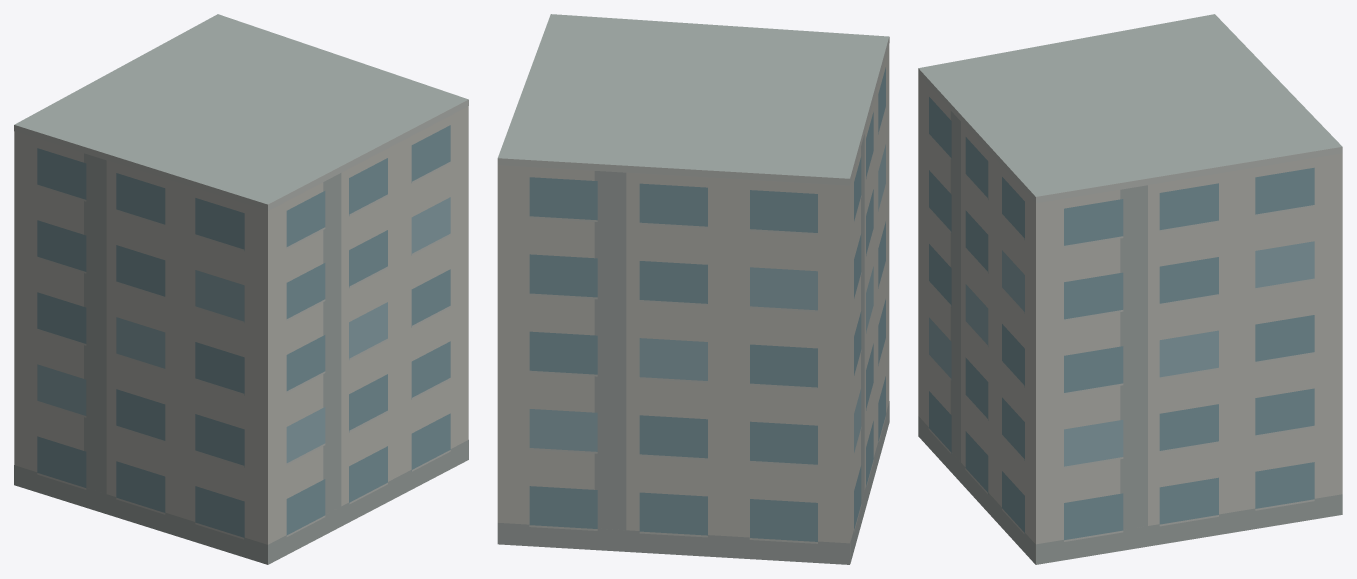
File: survey-upis-32858969.glb
The picture shows the model from 3 angles, left to right: view 1: azimuth 30°, elevation 25°; view 2: azimuth 150°, elevation 25°; view 3: azimuth 270°, elevation 25°; orthographic projection. The views are drawn at different scales.
Visible parts, largest first — view 1: survey-upis-32858969.tmp; view 2: survey-upis-32858969.tmp; view 3: survey-upis-32858969.tmp.
Part boxes in pixels (bbox=[...]): survey-upis-32858969.tmp: bbox=[14, 14, 468, 564]; survey-upis-32858969.tmp: bbox=[497, 14, 889, 564]; survey-upis-32858969.tmp: bbox=[918, 14, 1342, 564].
Bounding box in the file's own units: 14.4 × 13.5 × 14.12.
